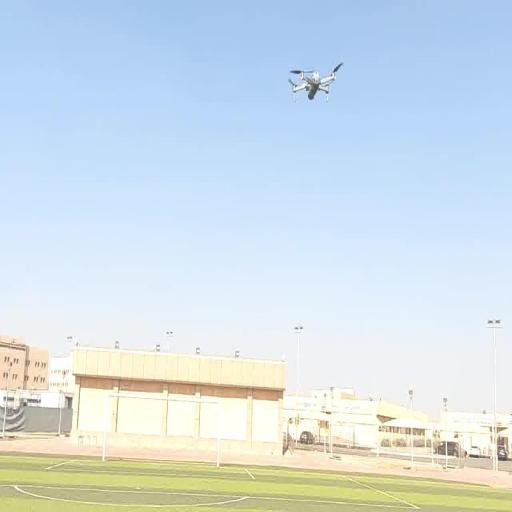drone: (287, 61, 343, 102)
